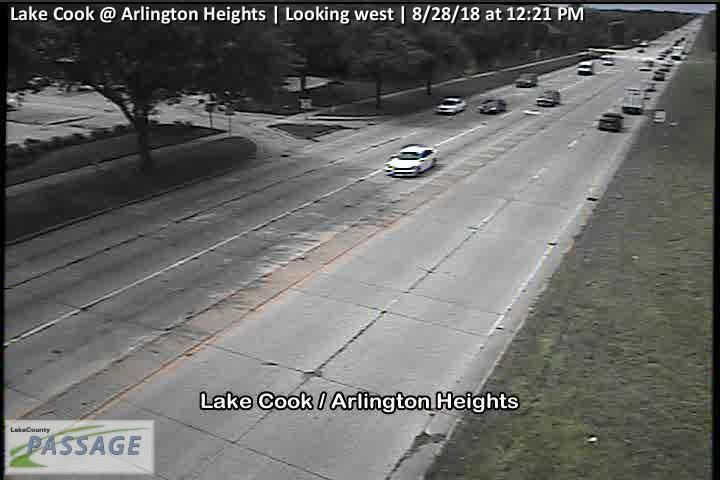SUV: (599, 113, 624, 133), (536, 90, 560, 107), (515, 72, 537, 87), (577, 60, 593, 76)
Sedan: (384, 144, 439, 177), (435, 96, 466, 114), (478, 99, 507, 115)
